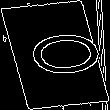O_E: (9, 29, 101, 81)
